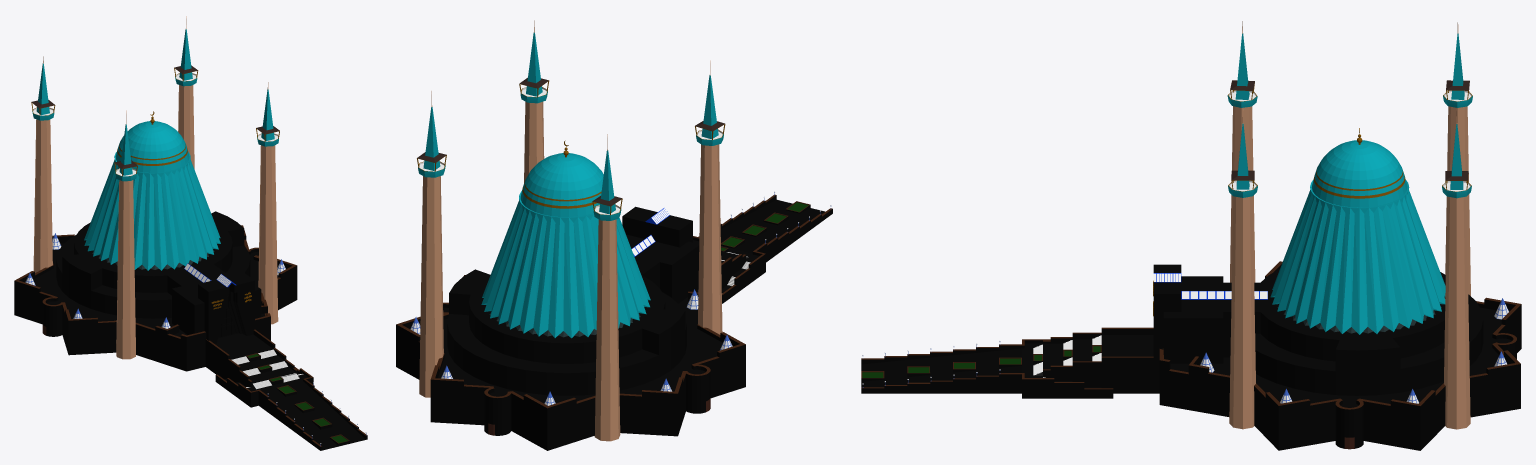
Rendered from Moshee.fbx.
3 renders of one model, left to right at view 1: azimuth 30°, elevation 25°; view 2: azimuth 150°, elevation 25°; view 3: azimuth 270°, elevation 25°, orthographic. The views are drawn at different scales.
Parts seen in each view (by area): view 1: Sphere020 (×11); view 2: Sphere020 (×9); view 3: Sphere020 (×9).
Part boxes in pixels (bbox=[...]): Sphere020 (×11): bbox=[14, 16, 367, 450]; Sphere020 (×9): bbox=[396, 20, 832, 450]; Sphere020 (×9): bbox=[861, 21, 1521, 450].
Size of the model in its own units: 925 by 951 by 1781.
